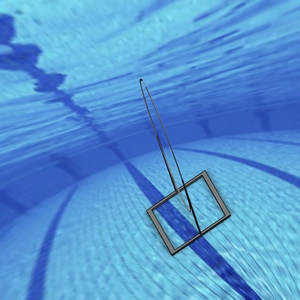circle: (133, 76, 232, 257)
